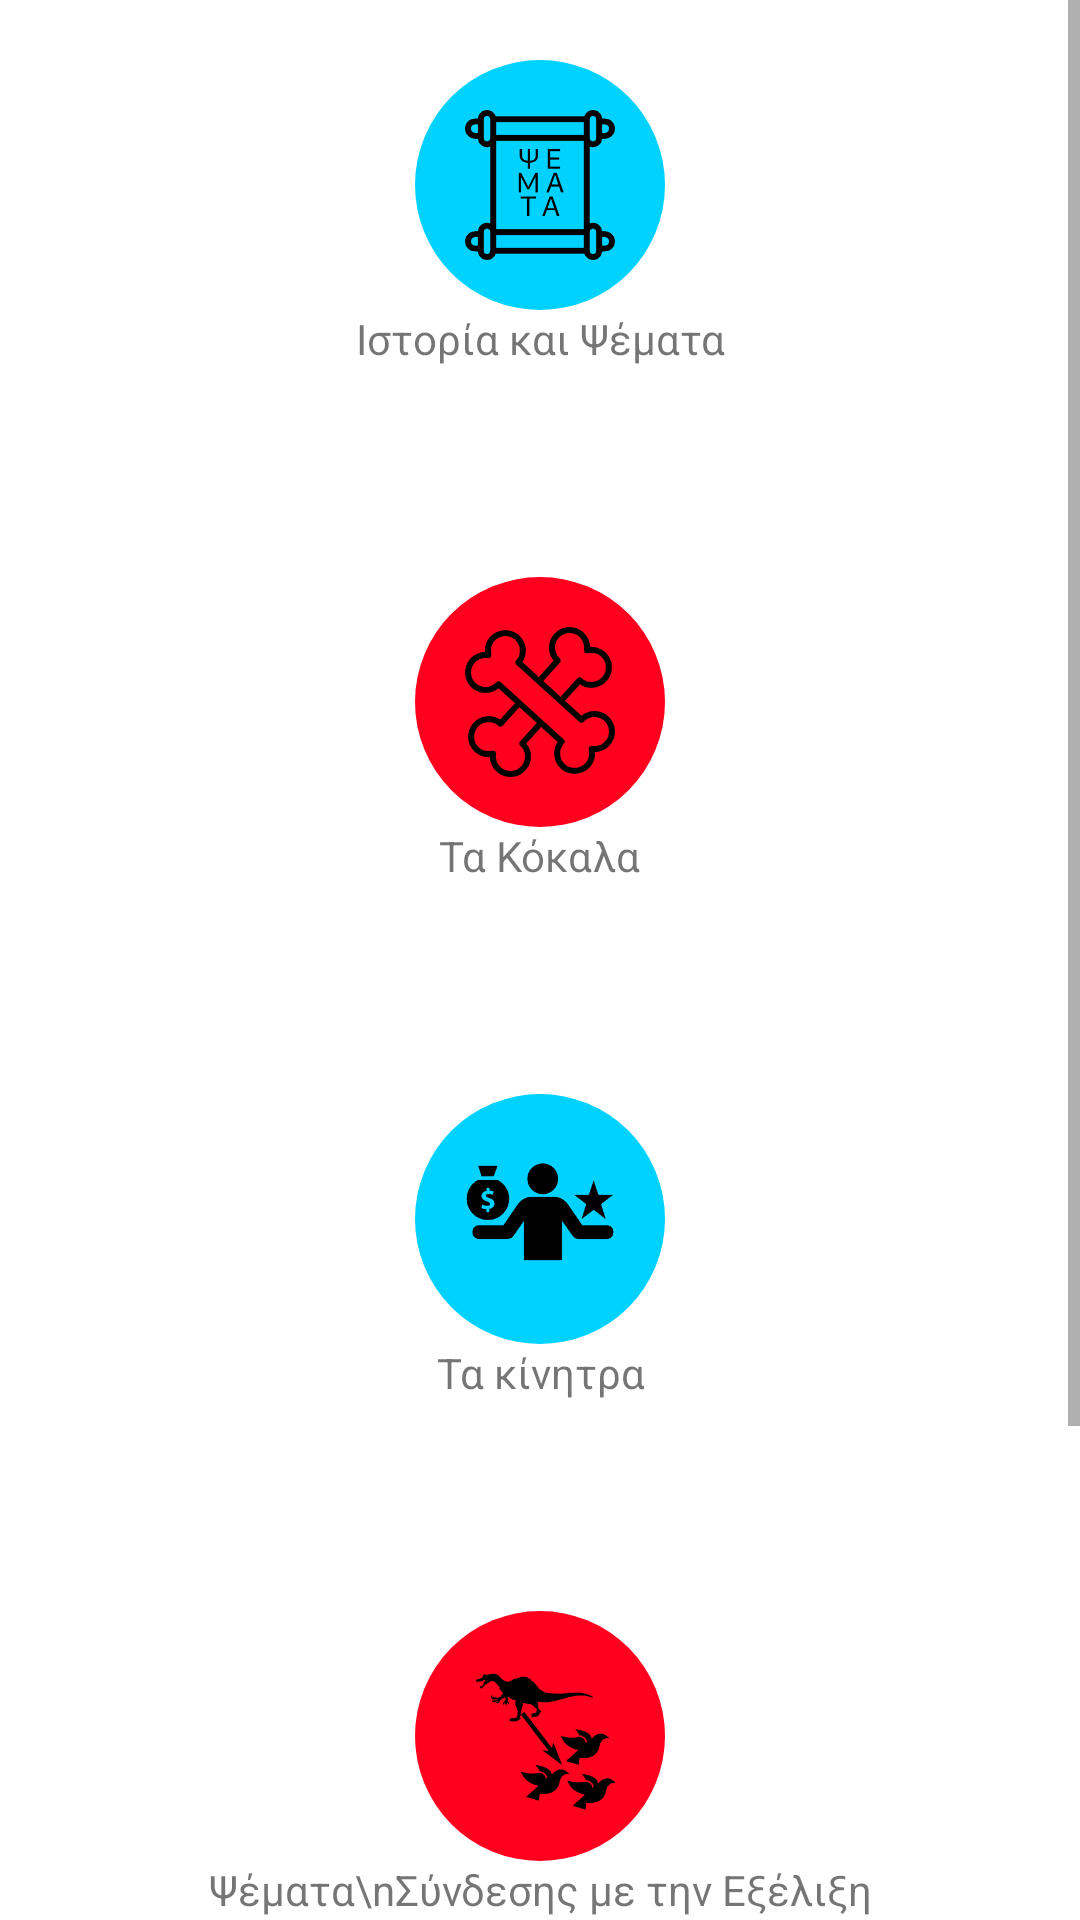

Named icons in this screenshot (1080x1920) and their bounding boxes, (x1, y1, x2, y2):
dino evolution: (415, 1611, 665, 1861)
